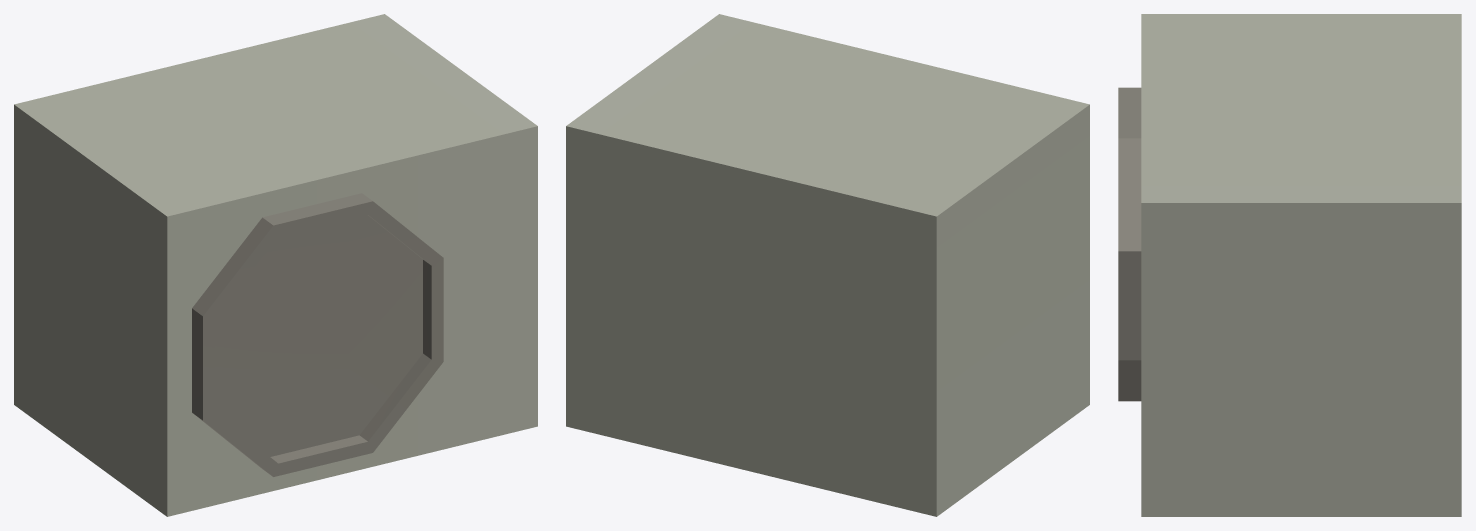
The model's file is ventbox.fbx.
3 views of the same model, side by side, from view 1: azimuth 30°, elevation 25°; view 2: azimuth 150°, elevation 25°; view 3: azimuth 270°, elevation 25° (orthographic). The views are drawn at different scales.
Visible parts, largest first — view 1: polySurface988; view 2: polySurface988; view 3: polySurface988.
Boxes of the visible parts, <box> form: polySurface988: <box>14,14,537,516</box>; polySurface988: <box>566,14,1089,516</box>; polySurface988: <box>1118,14,1461,516</box>.
Size of the model in its own units: 4.86 by 3.76 by 3.73.
Materials: 1 (1 with a texture image).
